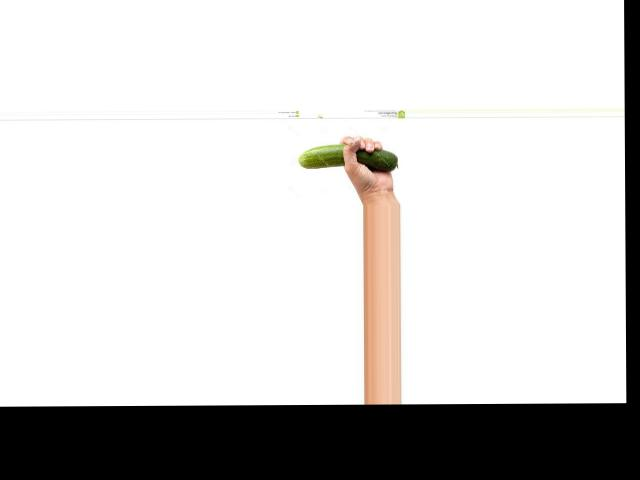cucumber: (298, 142, 396, 171)
